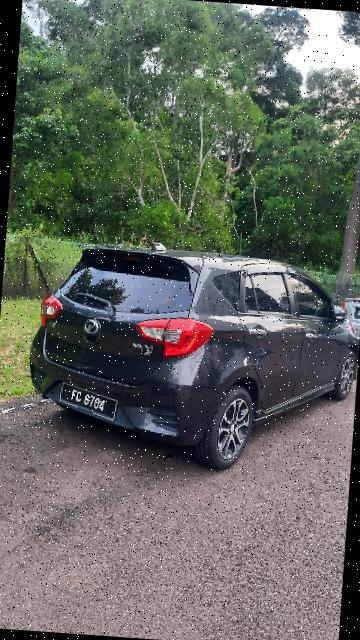License_Plate: (55, 378, 122, 423)
car: (19, 237, 360, 480)
